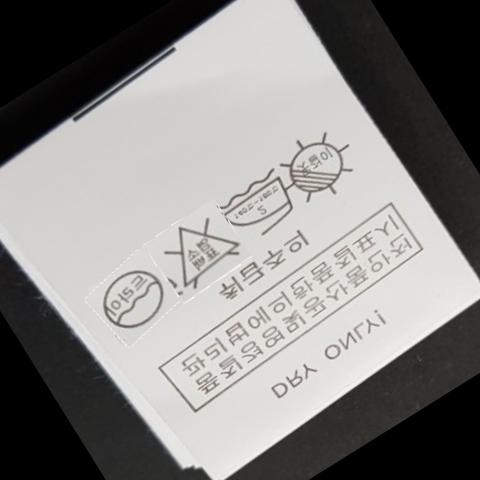dry_clean: (103, 268, 163, 331)
iron_medium: (226, 172, 292, 234)
line_dry_in_shade: (283, 133, 349, 203)
non_chlorine_bleach: (161, 212, 235, 288)
